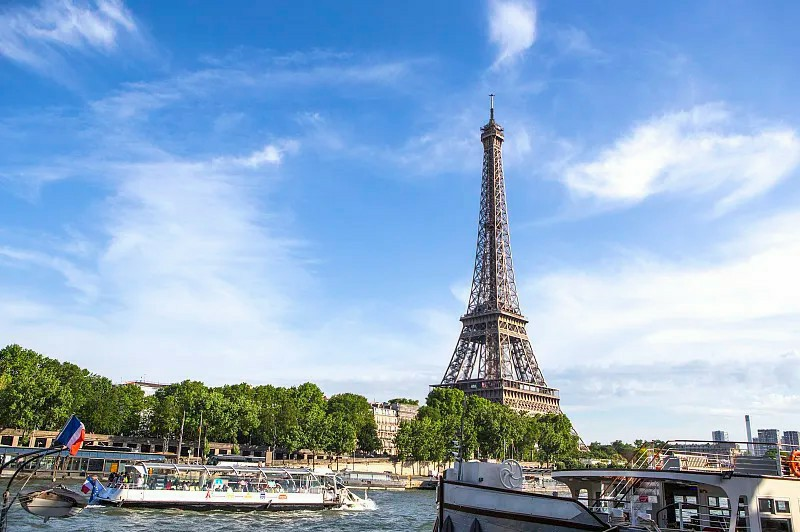Eiffel: (429, 94, 590, 452)
